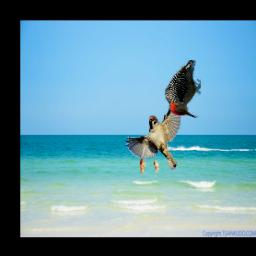Sparrow: (125, 95, 181, 170)
Woodpecker: (164, 60, 201, 118)
